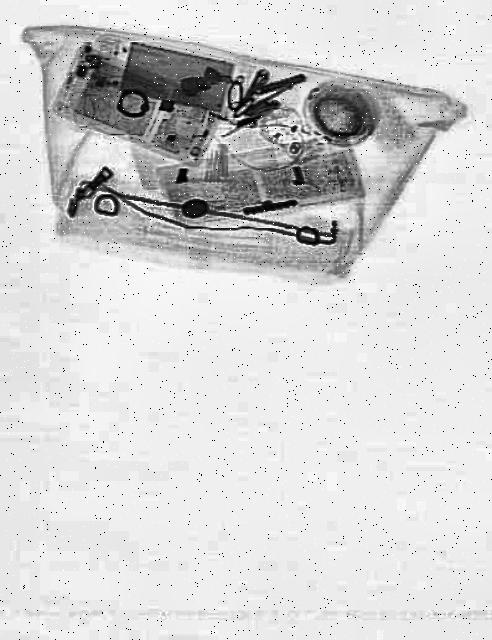Scissors: (218, 57, 272, 126)
